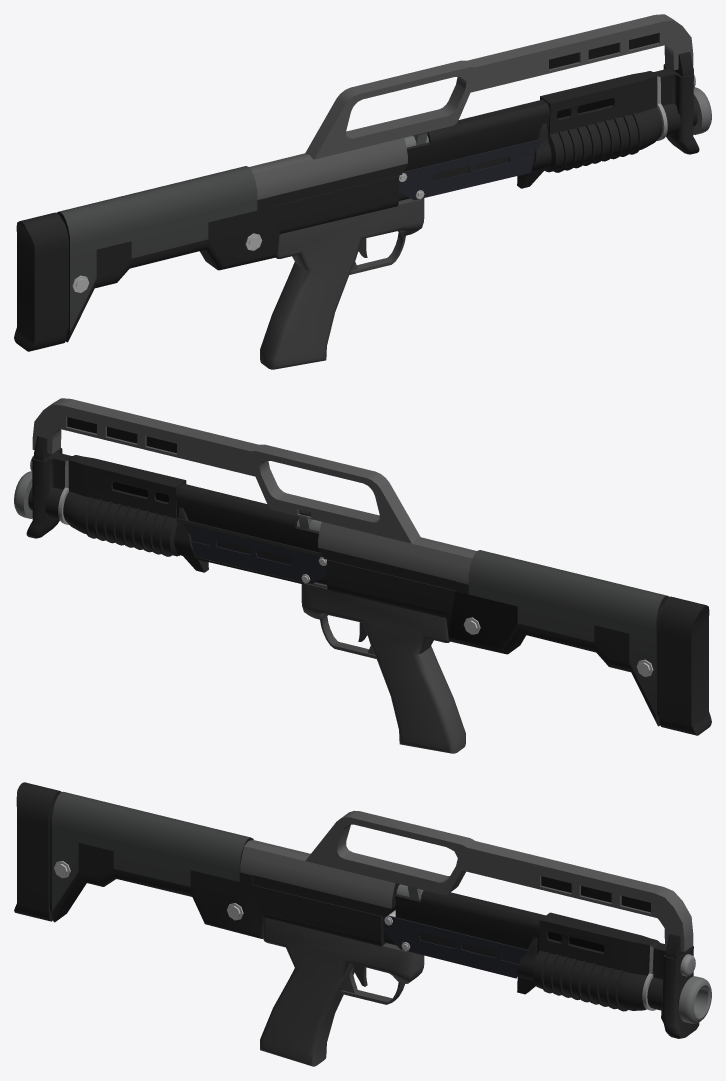
File: Kel_Tec_KS7_Mesh.fbx
The picture shows the model from 3 angles, top to bottom: view 1: azimuth 30°, elevation 25°; view 2: azimuth 150°, elevation 25°; view 3: azimuth 330°, elevation 25°; orthographic projection.
Parts seen in each view (by area): view 1: Kel_Tec_KS7; view 2: Kel_Tec_KS7; view 3: Kel_Tec_KS7.
Part boxes in pixels (box(x1,y1,x2,y2)): Kel_Tec_KS7: box(14, 14, 711, 369); Kel_Tec_KS7: box(14, 398, 711, 753); Kel_Tec_KS7: box(14, 782, 711, 1066).
Size of the model in its own units: 0.7211 by 0.26 by 0.0468.
